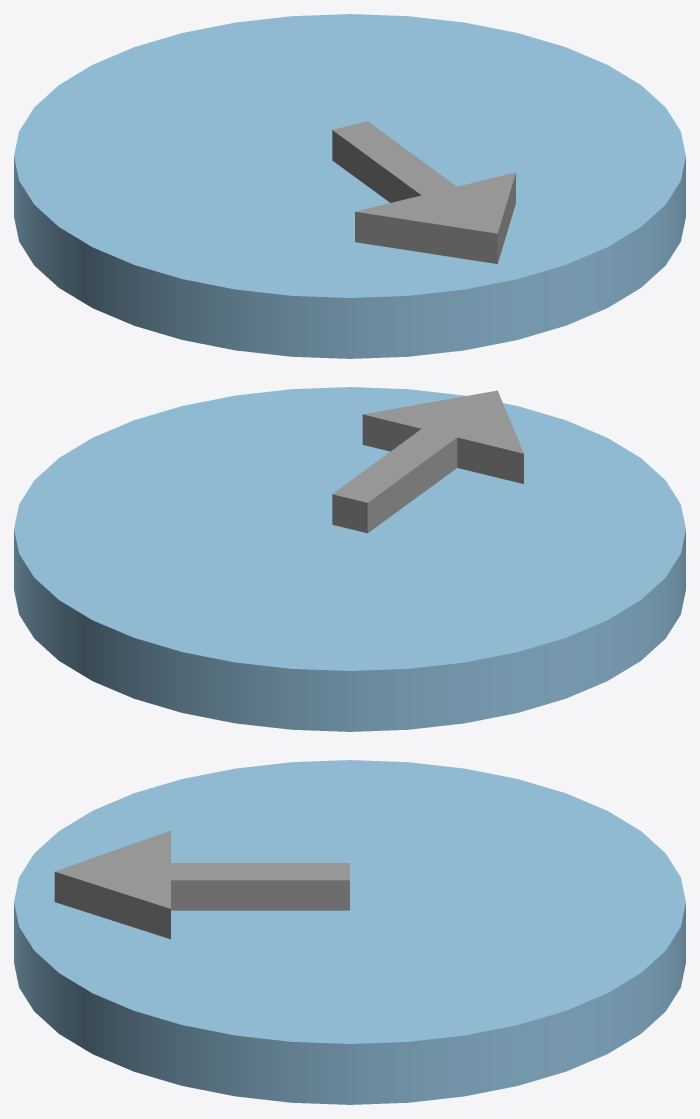
3 views of the same model, one above another, from view 1: azimuth 30°, elevation 25°; view 2: azimuth 150°, elevation 25°; view 3: azimuth 270°, elevation 25° (orthographic).
Parts seen in each view (by area): view 1: Part 1, Part 2; view 2: Part 1, Part 2; view 3: Part 1, Part 2.
Part boxes in pixels (<box>): Part 1: <box>14,14,685,358</box>; Part 2: <box>332,121,515,263</box>; Part 1: <box>14,387,685,731</box>; Part 2: <box>332,390,523,533</box>; Part 1: <box>14,760,685,1104</box>; Part 2: <box>54,830,349,939</box>.
Size of the model in its own units: 0.5 by 0.075 by 0.5.
